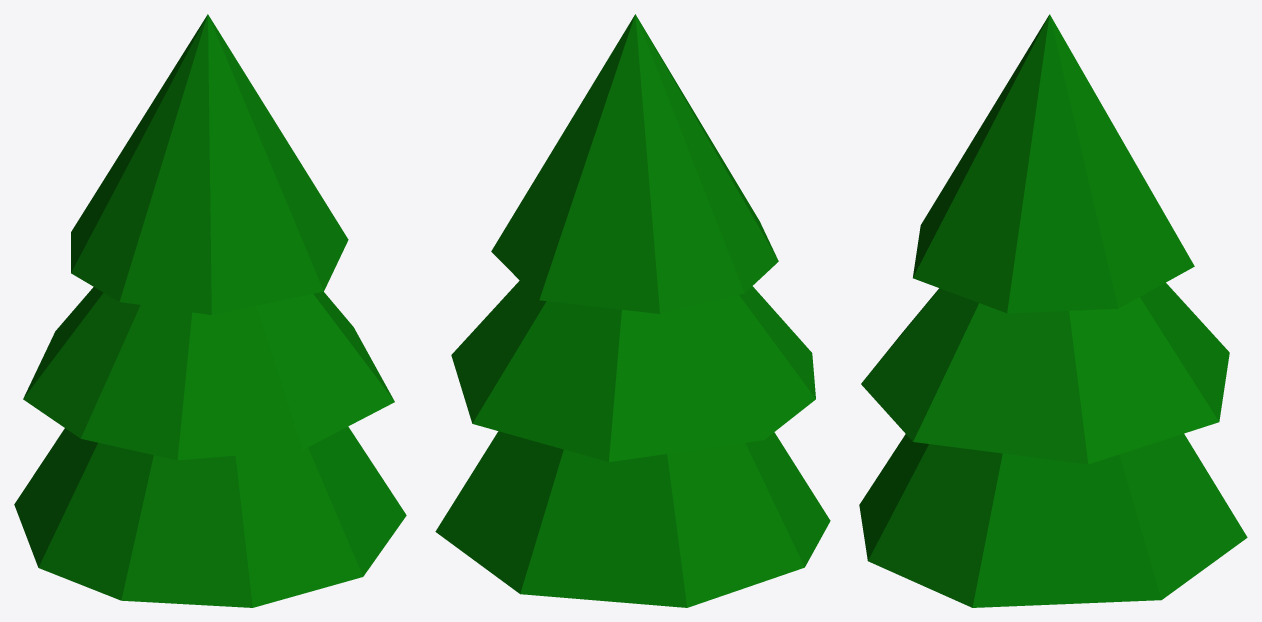
File: lowtree_green.dae
3 renders of one model, left to right at view 1: azimuth 30°, elevation 25°; view 2: azimuth 150°, elevation 25°; view 3: azimuth 270°, elevation 25°, orthographic.
Parts seen in each view (by area): view 1: a1e2a8f2-5aa5-4e4c-a457-6db6cf6d69da; view 2: a1e2a8f2-5aa5-4e4c-a457-6db6cf6d69da; view 3: a1e2a8f2-5aa5-4e4c-a457-6db6cf6d69da.
Part boxes in pixels (x1=…): a1e2a8f2-5aa5-4e4c-a457-6db6cf6d69da: x1=14, y1=14, x2=406, y2=607; a1e2a8f2-5aa5-4e4c-a457-6db6cf6d69da: x1=435, y1=14, x2=830, y2=607; a1e2a8f2-5aa5-4e4c-a457-6db6cf6d69da: x1=859, y1=14, x2=1247, y2=607.
Size of the model in its own units: 2 by 2 by 2.93.
